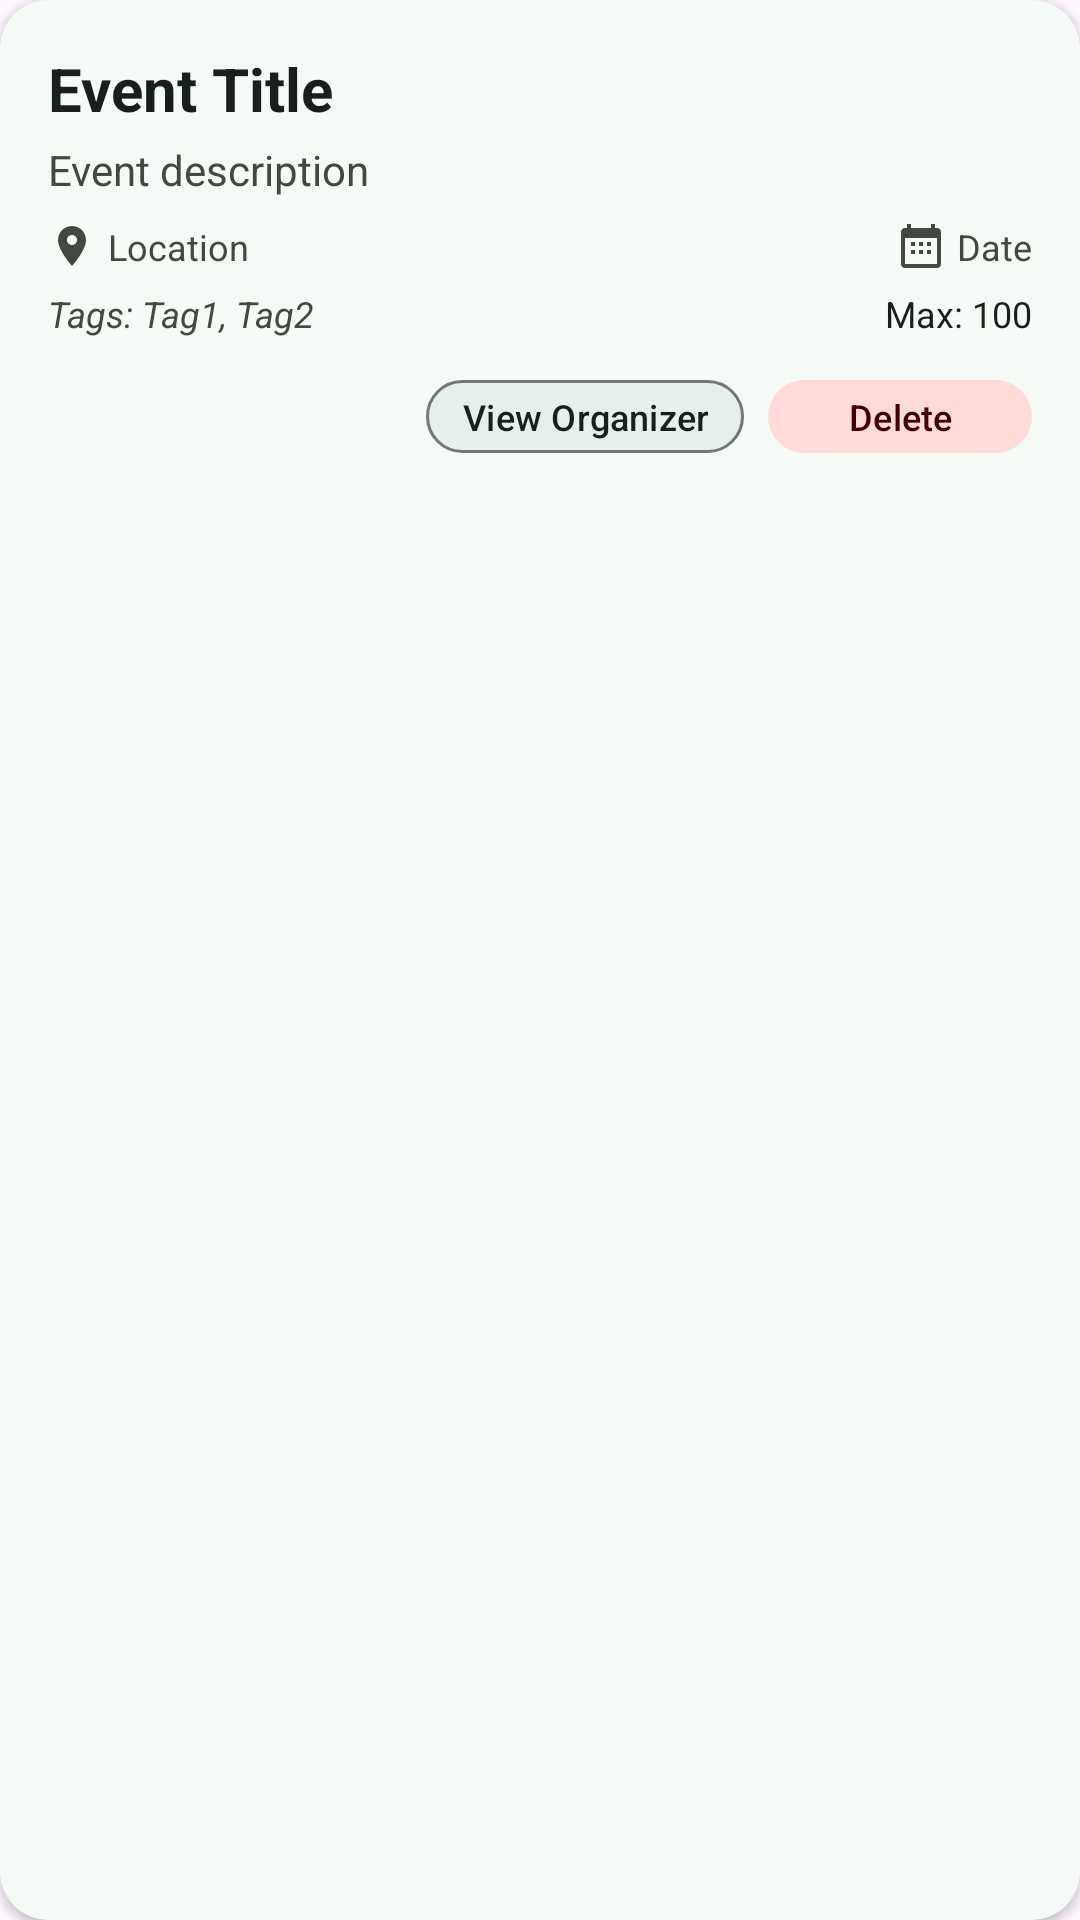

Icon click points for this 1080px×1920px phone screenshot, format [x,y]:
calendar: [921,246]
